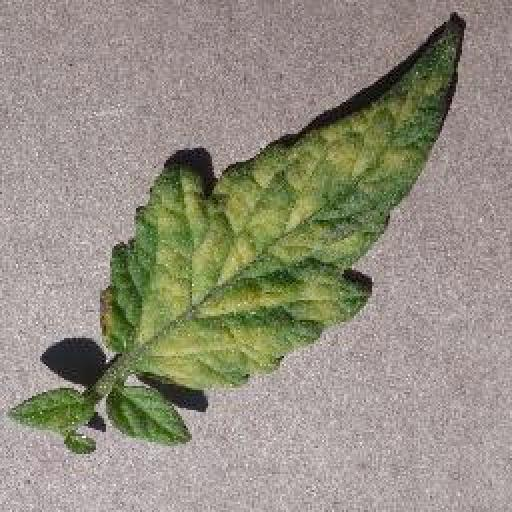disease_tomato: (102, 16, 462, 386)
